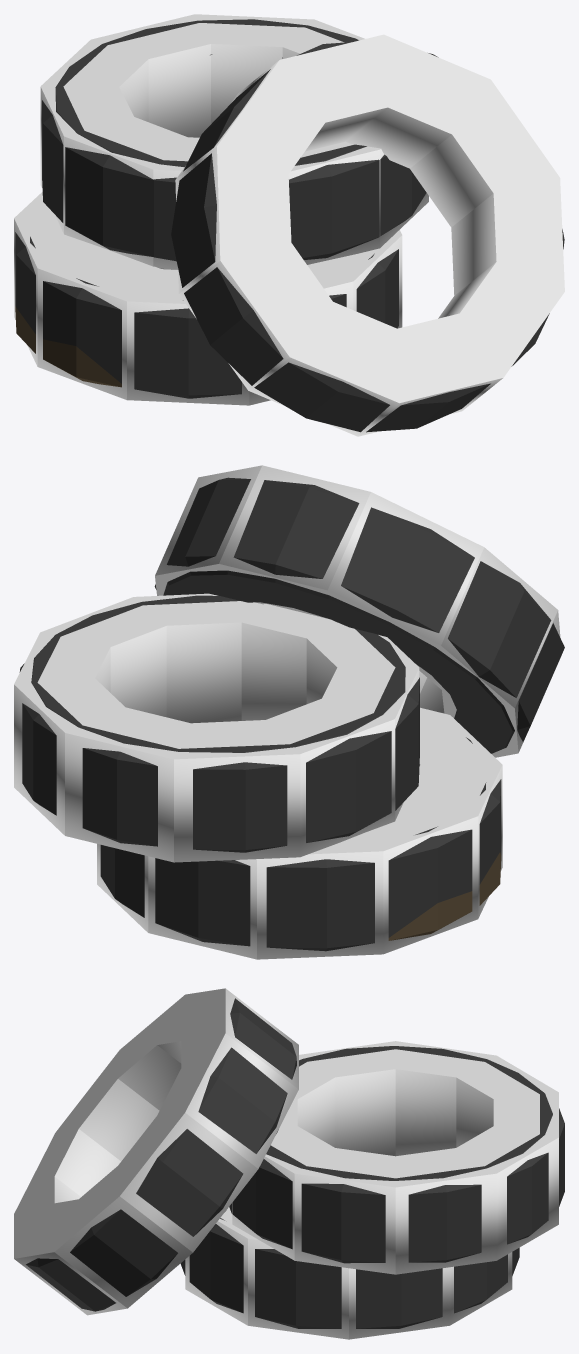
The model's file is model_old_tyre_set.fbx.
3 views of the same model, one above another, from view 1: azimuth 30°, elevation 25°; view 2: azimuth 150°, elevation 25°; view 3: azimuth 270°, elevation 25° (orthographic). The views are drawn at different scales.
Parts seen in each view (by area): view 1: model_old_tyre_col, model_old_tyre_set; view 2: model_old_tyre_set, model_old_tyre_col; view 3: model_old_tyre_col, model_old_tyre_set.
Boxes of the visible parts, <box> form: model_old_tyre_col: <box>14,14,564,436</box>; model_old_tyre_set: <box>15,19,564,432</box>; model_old_tyre_set: <box>19,477,564,951</box>; model_old_tyre_col: <box>14,465,560,959</box>; model_old_tyre_col: <box>14,988,558,1339</box>; model_old_tyre_set: <box>26,998,564,1328</box>.
Bounding box in the file's own units: 110 × 85.27 × 151.
Materials: 2 (1 with a texture image).
